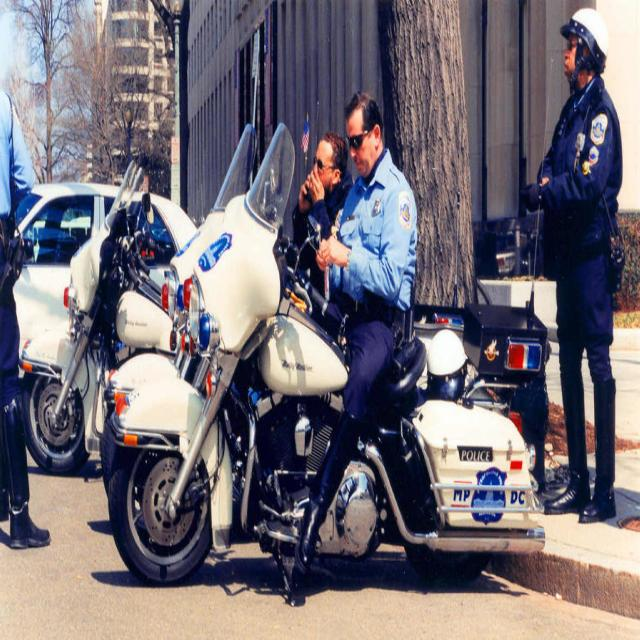car: (12, 176, 198, 375)
